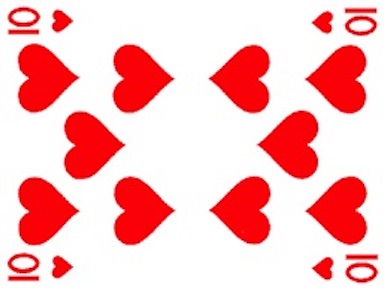TenOfHearts: (4, 4, 381, 283)
